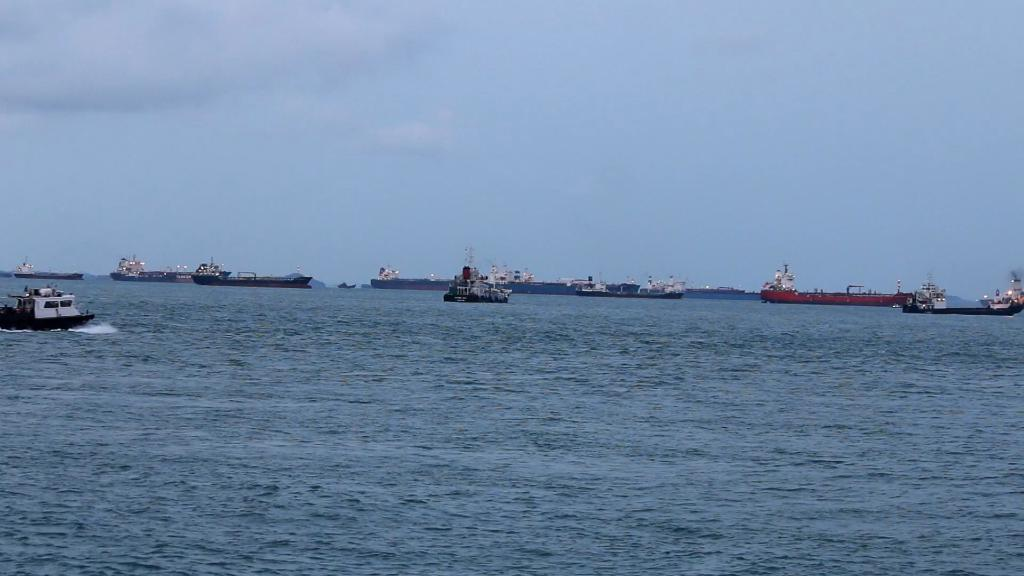PassengerShip: (442, 266, 516, 306)
